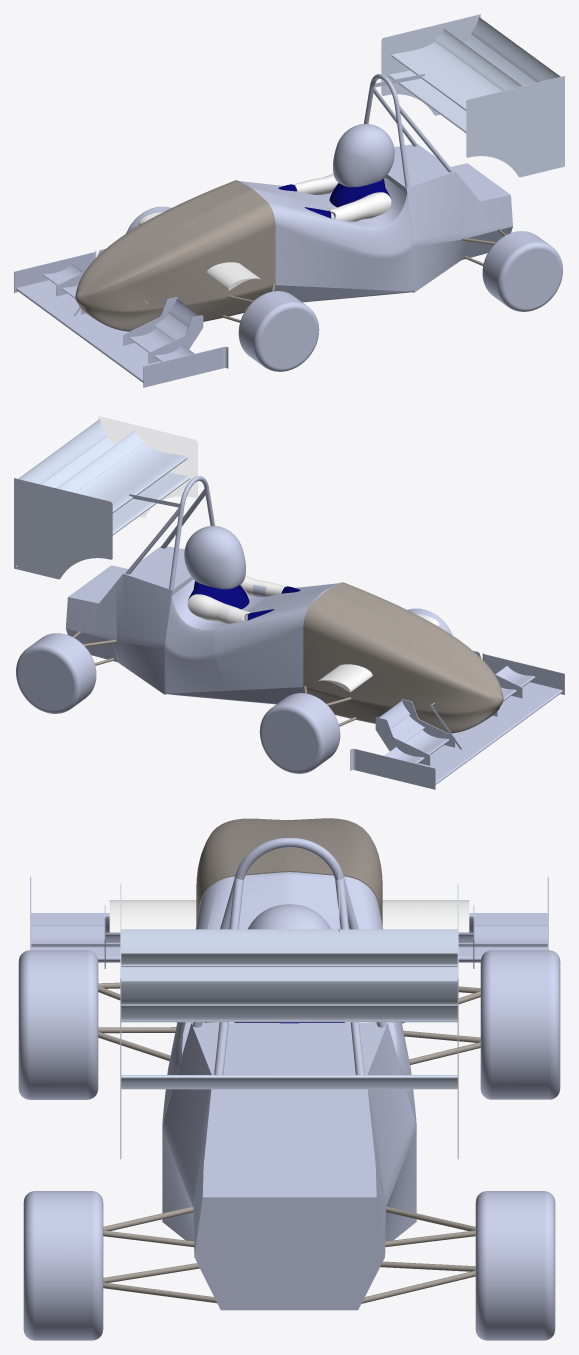
Rendered from flame-5-aero-assm.glb.
The picture shows the model from 3 angles, top to bottom: view 1: azimuth 30°, elevation 25°; view 2: azimuth 150°, elevation 25°; view 3: azimuth 270°, elevation 25°; orthographic projection. The views are drawn at different scales.
Visible parts, largest first — view 1: just sidepods 1.20-2, Flame 5 20 new frame with no cut outs solid-1, R.9-1, f.13-1, Copy of Part2^13.9.7-1; view 2: just sidepods 1.20-2, Flame 5 20 new frame with no cut outs solid-1, R.9-1, f.13-1, Copy of Part2^13.9.7-1; view 3: just sidepods 1.20-2, R.9-1, Flame 5 20 new frame with no cut outs solid-1, f.13-1, Copy of Part2^13.9.7-1.
Part boxes in pixels (left/top/right/bottom): just sidepods 1.20-2: left=73, top=74, right=562, bottom=371; Flame 5 20 new frame with no cut outs solid-1: left=75, top=180, right=275, bottom=331; R.9-1: left=381, top=14, right=564, bottom=177; f.13-1: left=14, top=248, right=228, bottom=387; Copy of Part2^13.9.7-1: left=138, top=212, right=260, bottom=290; just sidepods 1.20-2: left=16, top=476, right=462, bottom=773; Flame 5 20 new frame with no cut outs solid-1: left=303, top=582, right=503, bottom=733; R.9-1: left=14, top=416, right=197, bottom=579; f.13-1: left=350, top=650, right=564, bottom=789; Copy of Part2^13.9.7-1: left=318, top=614, right=440, bottom=692; just sidepods 1.20-2: left=18, top=838, right=560, bottom=1340; R.9-1: left=120, top=883, right=458, bottom=1159; Flame 5 20 new frame with no cut outs solid-1: left=196, top=818, right=382, bottom=925; f.13-1: left=30, top=876, right=548, bottom=968; Copy of Part2^13.9.7-1: left=109, top=900, right=469, bottom=932.
Size of the model in its own units: 2.8 by 1.25 by 1.47.
